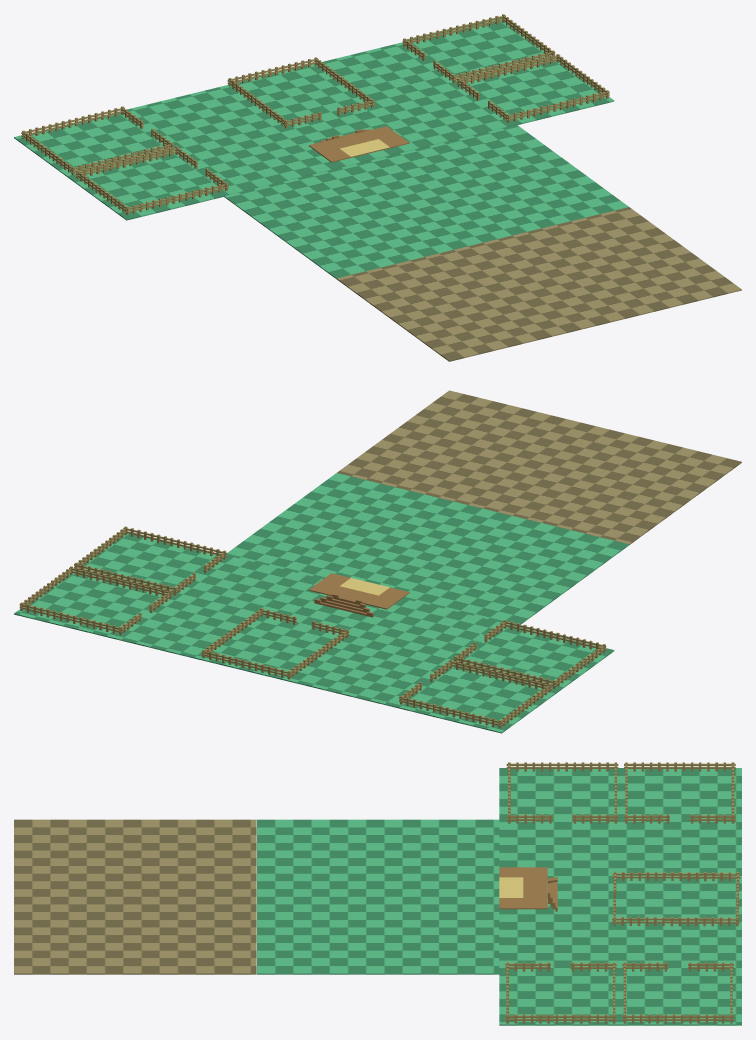
The model's file is TAE_Test.glb.
3 views of the same model, one above another, from view 1: azimuth 30°, elevation 25°; view 2: azimuth 150°, elevation 25°; view 3: azimuth 270°, elevation 25° (orthographic). The views are drawn at different scales.
Parts seen in each view (by area): view 1: Cube, Scorching Sands, Cluck Valley, Cube.331 copy copy copy copy; view 2: Cube, Scorching Sands, Cluck Valley, Cube.331 copy copy copy copy; view 3: Cube, Scorching Sands, Cluck Valley, Cube.331 copy copy copy copy, Throw Zone.
Boxes of the visible parts, box(x1,y1,x2,y2) form: Cube: box(14, 18, 614, 220); Scorching Sands: box(336, 207, 741, 361); Cluck Valley: box(224, 124, 628, 278); Cube.331 copy copy copy copy: box(309, 126, 409, 162); Cube: box(14, 533, 614, 733); Scorching Sands: box(337, 390, 741, 544); Cluck Valley: box(226, 473, 629, 626); Cube.331 copy copy copy copy: box(309, 573, 409, 609); Cube: box(499, 768, 741, 1025); Scorching Sands: box(14, 819, 256, 974); Cluck Valley: box(257, 819, 499, 974); Cube.331 copy copy copy copy: box(499, 867, 547, 909); Throw Zone: box(499, 877, 523, 897).
Size of what is drawn, in the model's own units: 250 by 5.7 by 300.
Materials: 342 (3 with a texture image).
